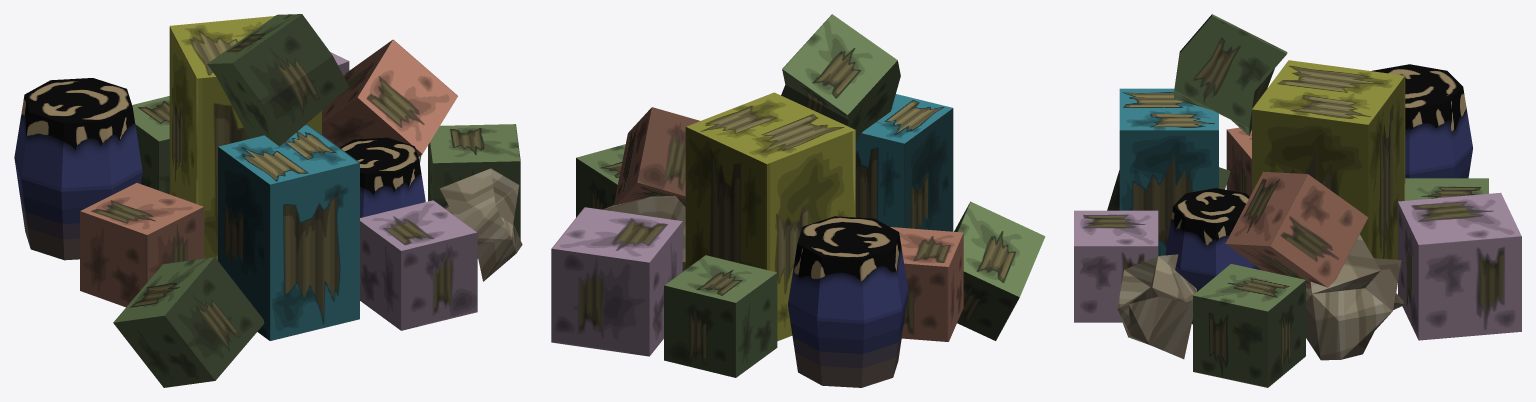
The model's file is TrashPile.fbx.
3 renders of one model, left to right at view 1: azimuth 30°, elevation 25°; view 2: azimuth 150°, elevation 25°; view 3: azimuth 270°, elevation 25°, orthographic. The views are drawn at different scales.
Visible parts, largest first — view 1: Cube; view 2: Cube; view 3: Cube.
Boxes of the visible parts, x1,y1,x2,y2 form: Cube: [14, 14, 522, 387]; Cube: [551, 14, 1045, 387]; Cube: [1074, 14, 1521, 387].
Bounding box in the file's own units: 1147 × 809 × 1063.
Materials: 1 (1 with a texture image).
